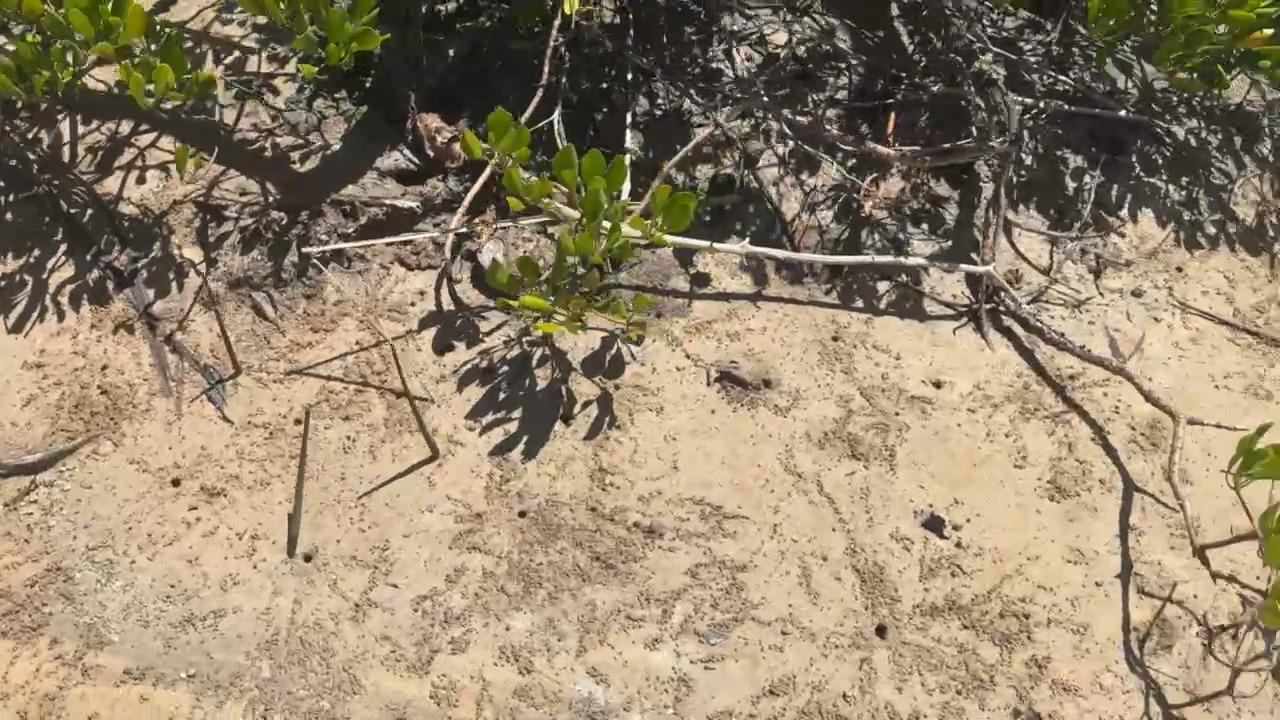Tree: (311, 255, 438, 404), (388, 343, 441, 463), (198, 270, 243, 377), (288, 408, 310, 555)
